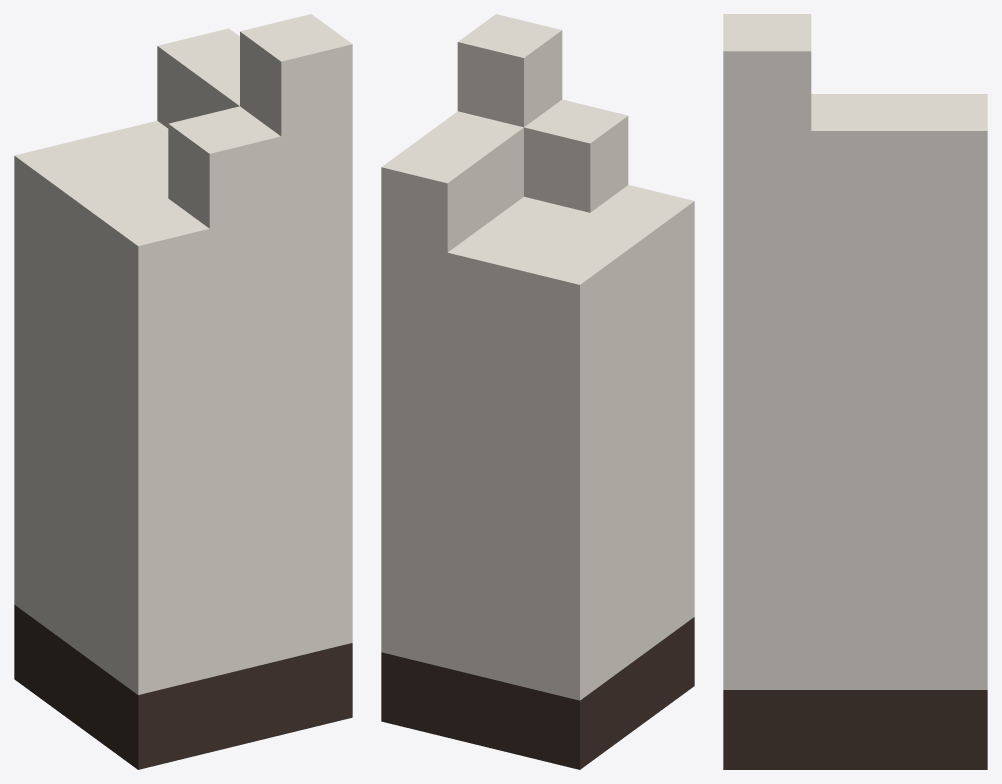
Rendered from calf__leg_fl.glb.
3 renders of one model, left to right at view 1: azimuth 30°, elevation 25°; view 2: azimuth 150°, elevation 25°; view 3: azimuth 270°, elevation 25°, orthographic. The views are drawn at different scales.
Parts seen in each view (by area): view 1: calf__leg_fl; view 2: calf__leg_fl; view 3: calf__leg_fl.
Part boxes in pixels (x1=…): calf__leg_fl: x1=14, y1=14, x2=352, y2=769; calf__leg_fl: x1=381, y1=14, x2=694, y2=769; calf__leg_fl: x1=723, y1=14, x2=987, y2=769.
Bounding box in the file's own units: 0.3 × 0.9 × 0.3.
Materials: 1 (1 with a texture image).
